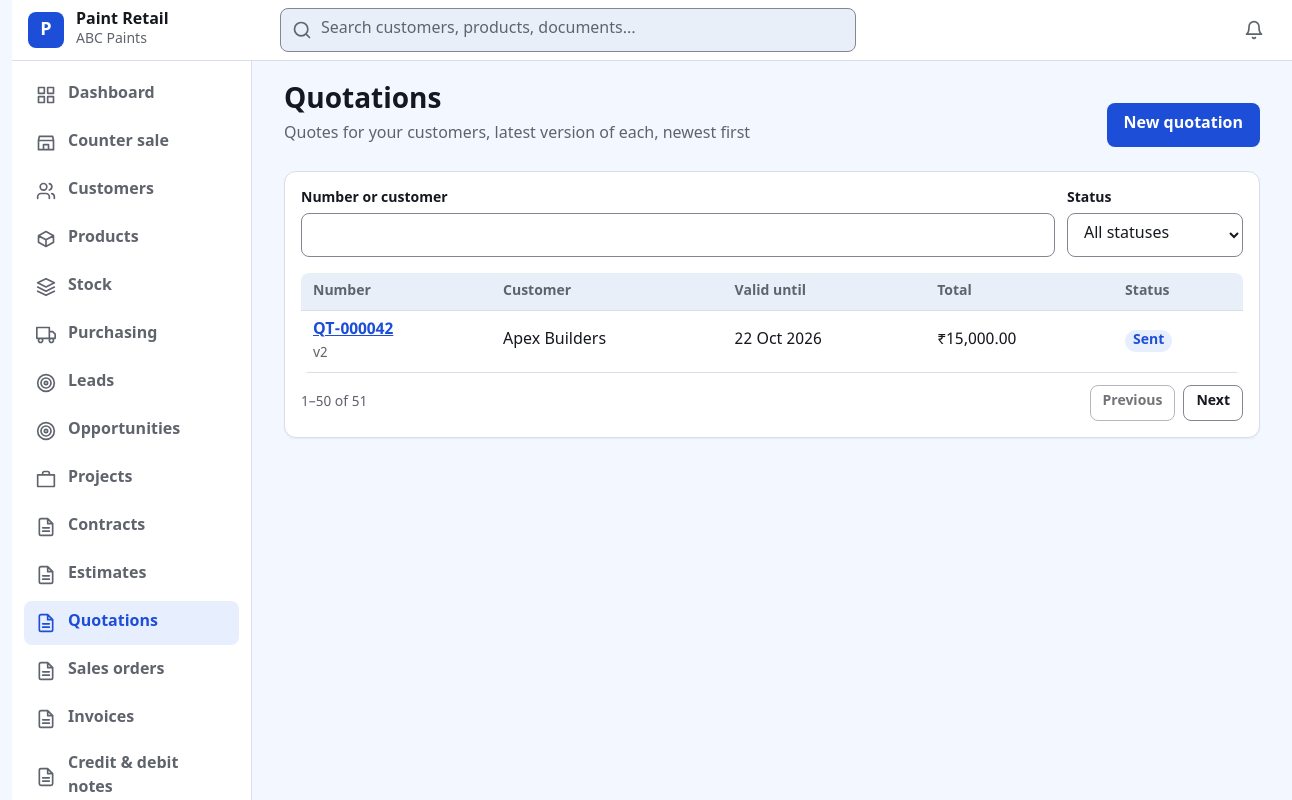
QuotationsPage › lists quotes with filters and pages, and starts a new one
Expected: the row "QT-000042 v2 Apex Builders 22 Oct 2026 ₹15,000.00 Sent" is shown, [301,311,1243,372]
Select "Accepted" in the dropdown labelled "Status" at (1155, 235), box [1067,213,1243,257]
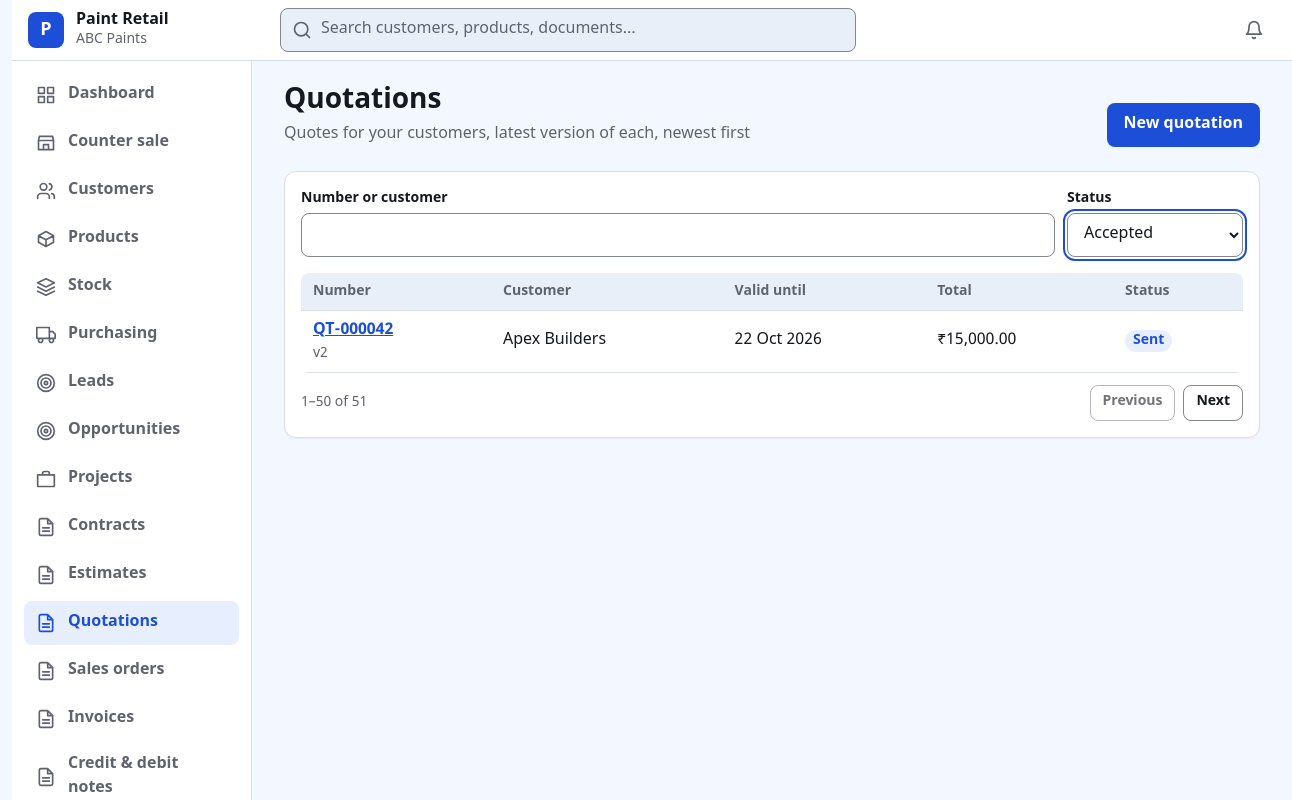
Type "QT" into the search field labelled "Number or customer" at (678, 235), box [301,213,1055,257]
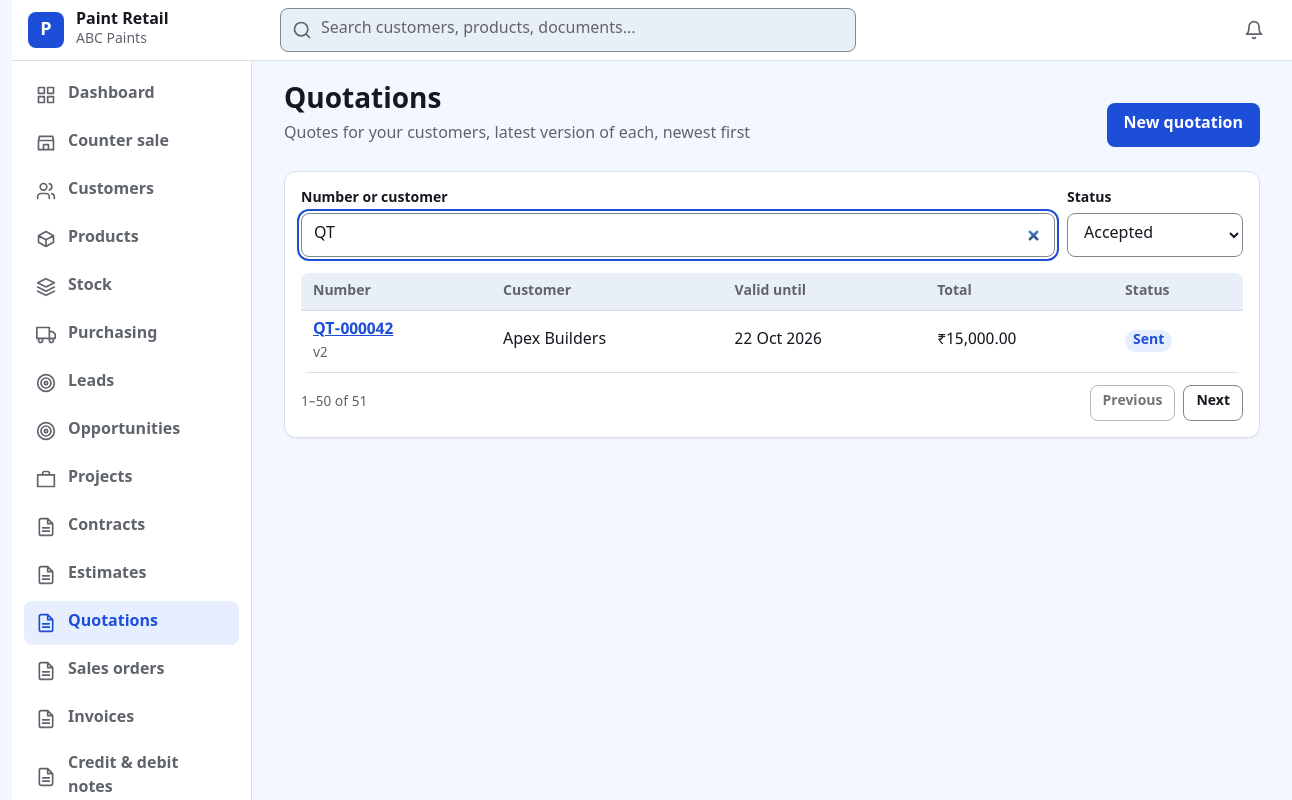
Click the button "Next" at (1213, 403), box [1184,385,1243,421]
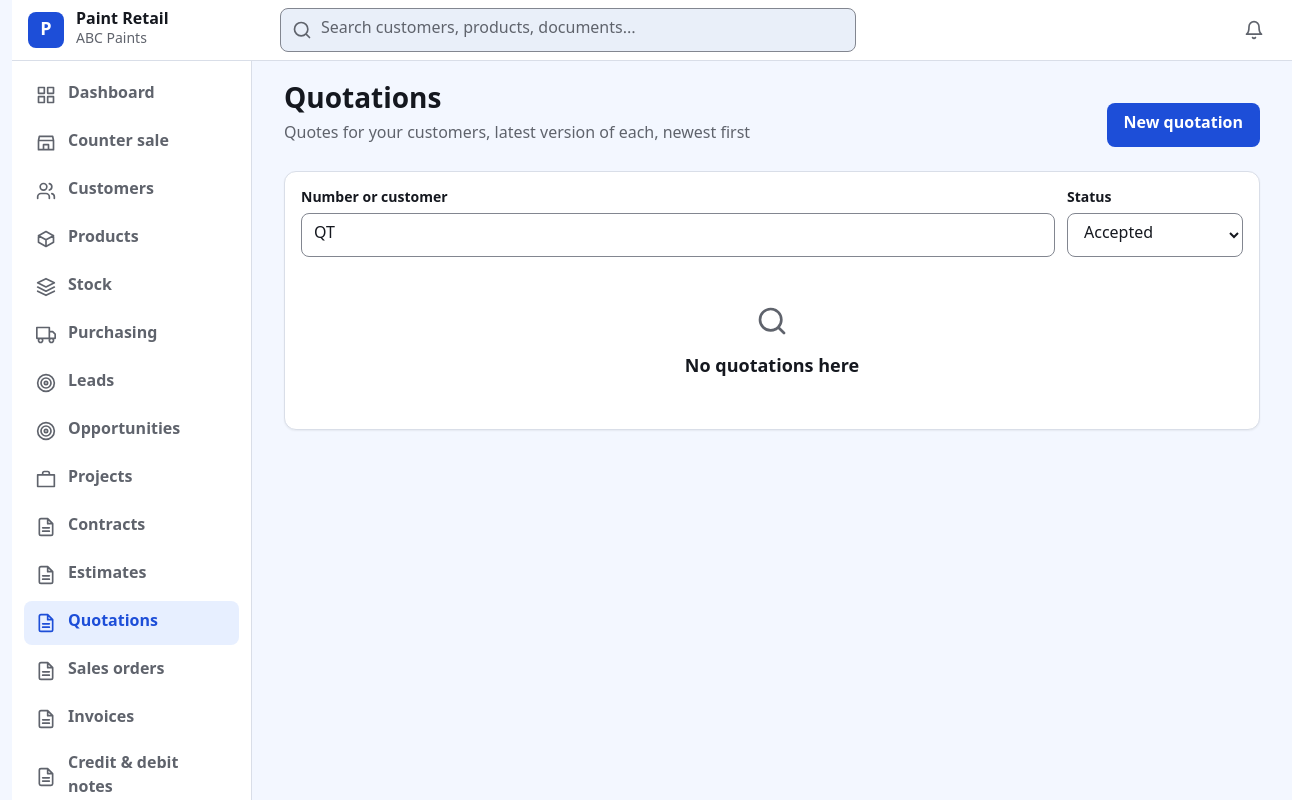
Expected: the text "No quotations here" is shown, [685,354,859,381]
Click the link "New quotation" at (1183, 125), box [1107,103,1260,147]
(page scrolled)
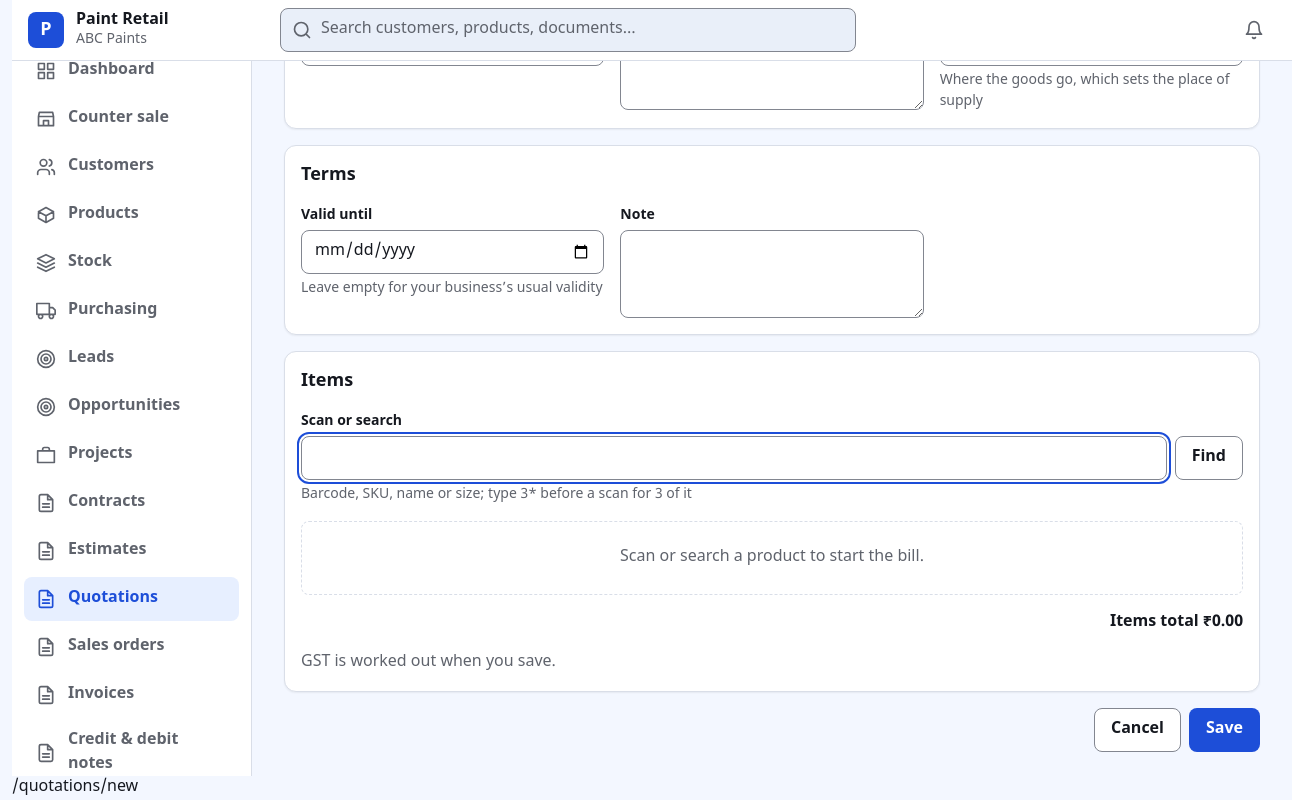
Expected: the text with test id "location" reads "/quotations/new", [12,777,138,798]
